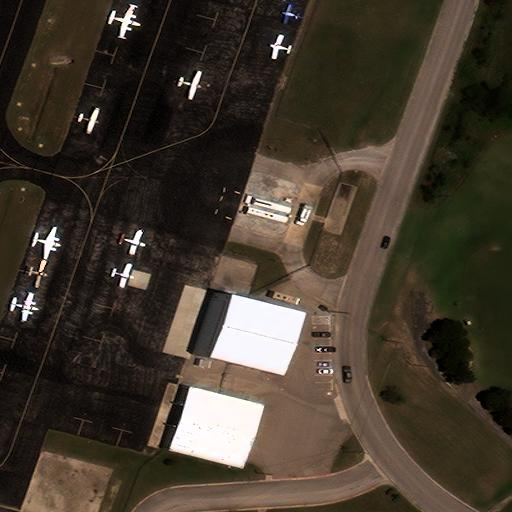Small Civil Transport: (108, 7, 140, 37), (32, 227, 61, 259), (10, 293, 39, 322), (176, 71, 201, 99), (117, 231, 145, 254), (25, 261, 47, 289), (111, 264, 134, 287), (78, 108, 99, 133), (270, 34, 291, 58), (282, 3, 301, 22)
